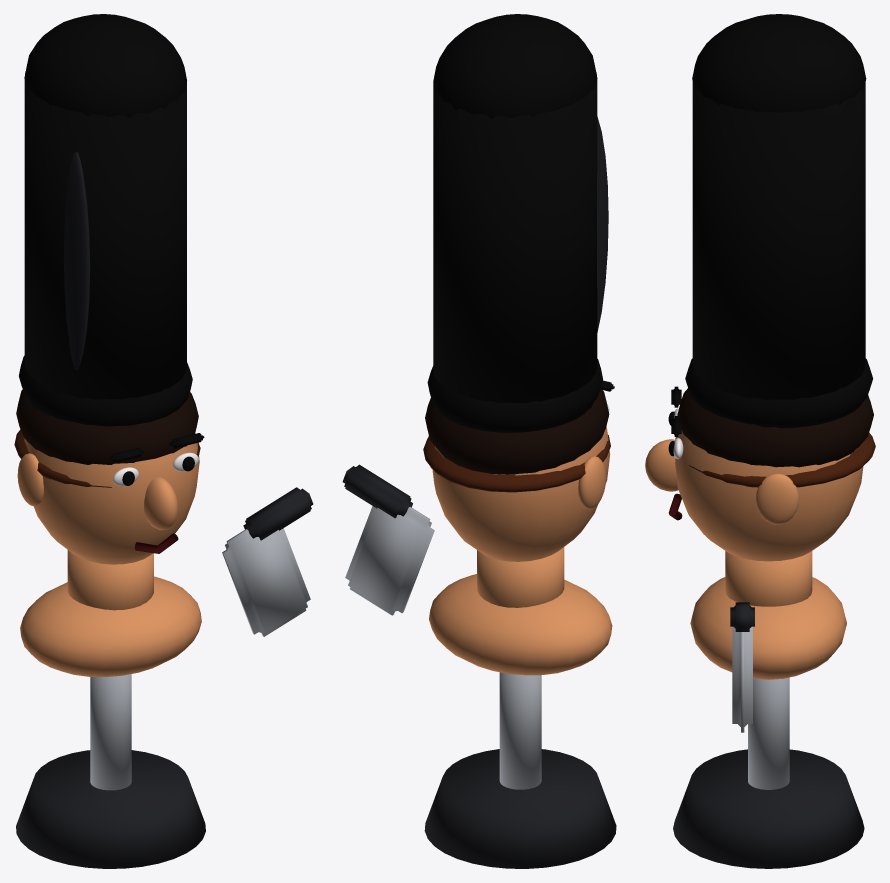
The model's file is LowTaperFade.fbx.
3 views of the same model, side by side, from view 1: azimuth 30°, elevation 25°; view 2: azimuth 150°, elevation 25°; view 3: azimuth 270°, elevation 25° (orthographic).
Visible parts, largest first — view 1: LowTaperFade; view 2: LowTaperFade; view 3: LowTaperFade.
Boxes of the visible parts, box(x1,y1,x2,y2) form: LowTaperFade: box(14, 14, 313, 868); LowTaperFade: box(342, 14, 616, 868); LowTaperFade: box(645, 14, 875, 868).
Bounding box in the file's own units: 1.8 × 5.1 × 1.33.
Materials: 1 (1 with a texture image).
